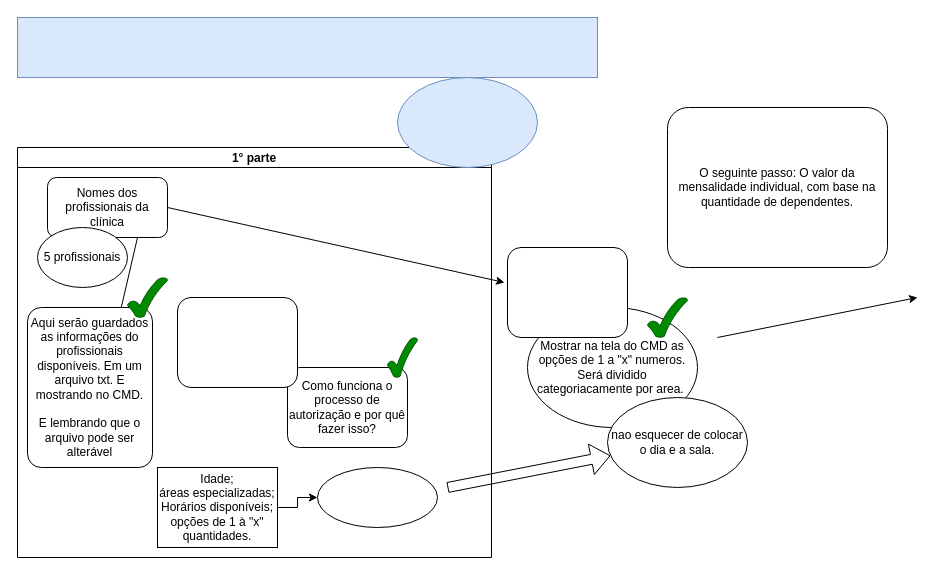
Image size: 943x575. Some labels were removed from this diagram. The centre of each missing label's shape, as x and y in pixels:
"Agenda": pixel 377 497
Em seguida as informações pessoais do user.: pixel 567 292
Entender o motivo da autorização do plano de saúde da operadora.: pixel 237 342
os tipos de plano de saude que a clinica oferece.: pixel 467 122
Pegar parte do cliente passar na mainjava, para recebre informações.: pixel 307 47
